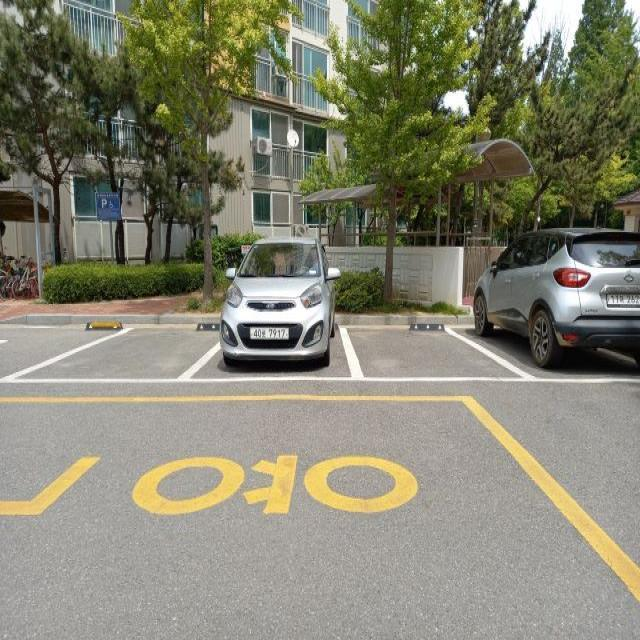Car: (469, 225, 640, 374), (221, 233, 343, 369)
Vacant: (3, 318, 236, 383), (341, 328, 539, 384)
